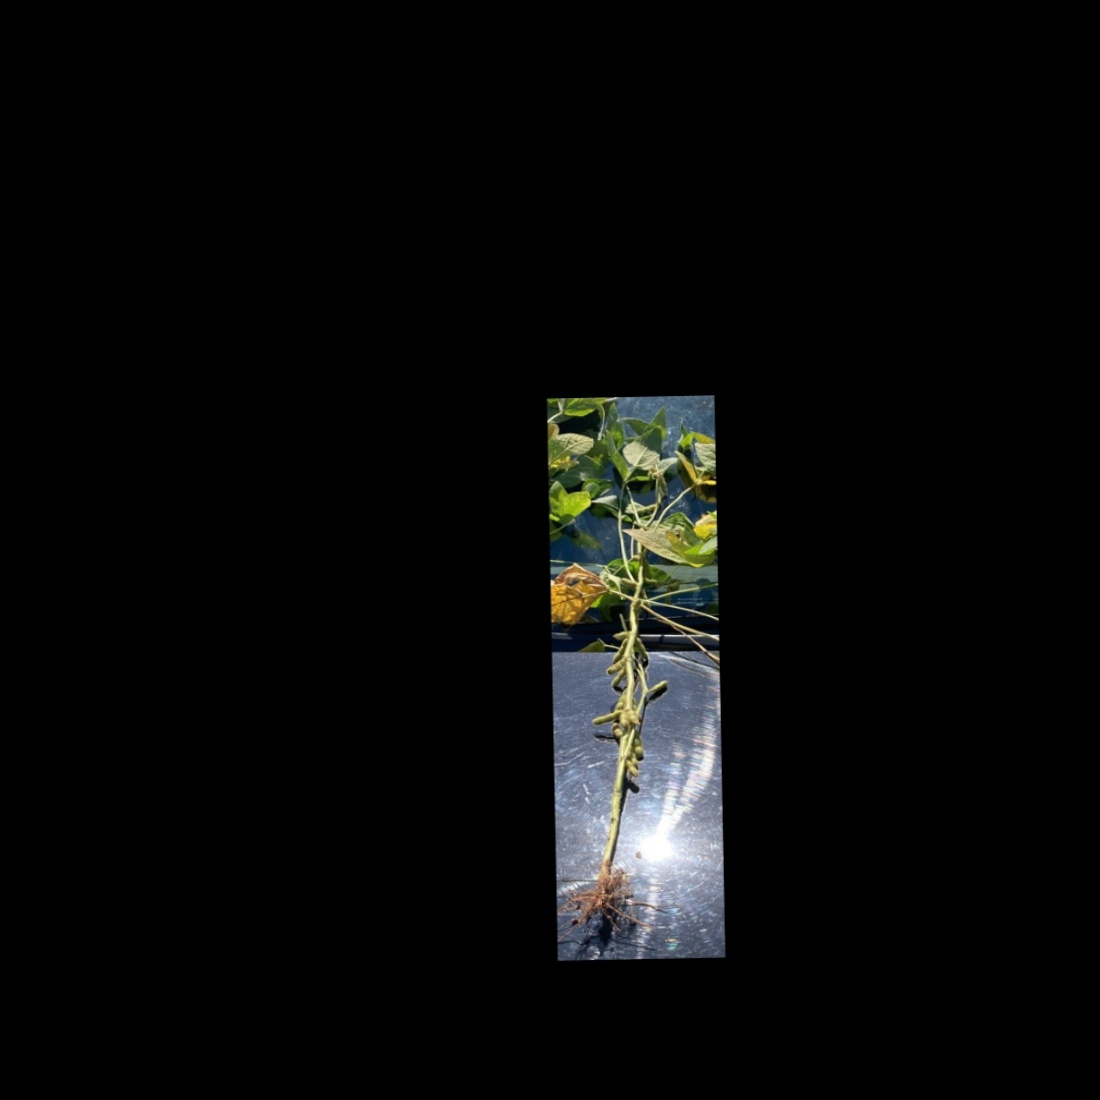pod: (630, 634, 653, 666), (590, 709, 622, 727), (604, 654, 628, 677), (608, 665, 629, 690), (646, 678, 670, 695), (626, 759, 643, 780), (631, 737, 648, 758)
soy: (555, 401, 702, 937)
